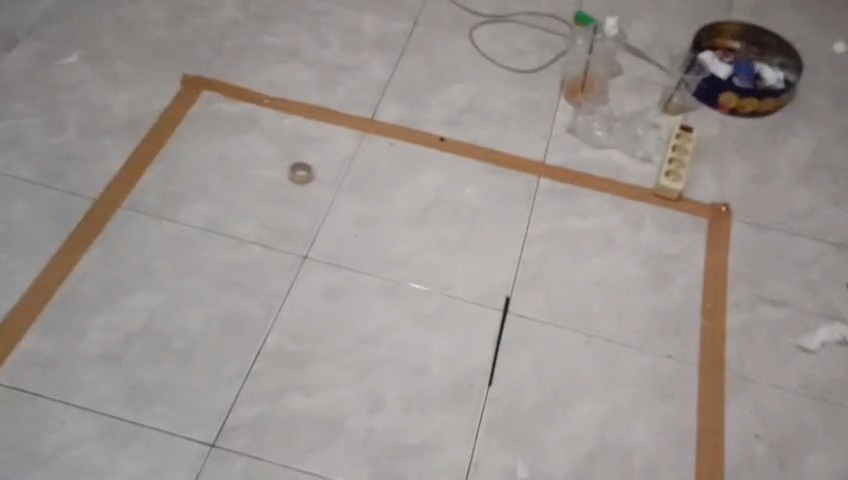floor marking: (0, 75, 731, 479)
